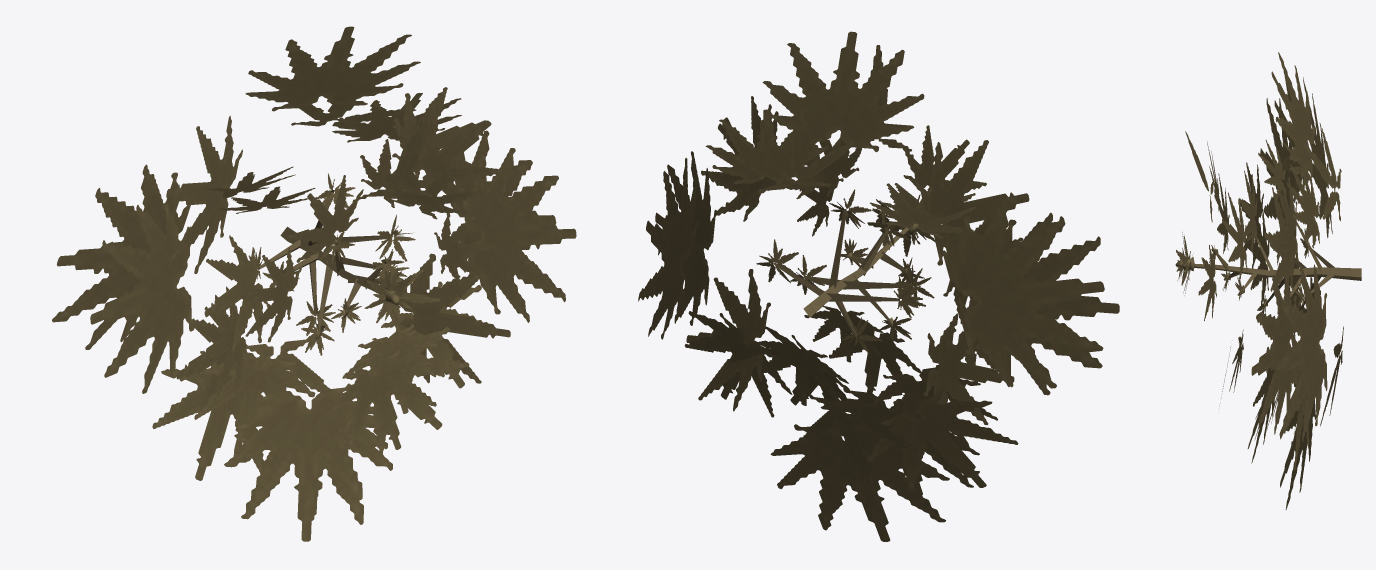
File: p_landrace_preflower_c4_cards.obj
The picture shows the model from 3 angles, left to right: view 1: azimuth 30°, elevation 25°; view 2: azimuth 150°, elevation 25°; view 3: azimuth 270°, elevation 25°; orthographic projection. The views are drawn at different scales.
Bounding box in the file's own units: 1.52 × 1.5 × 0.532.
1 material, 1 textured.
